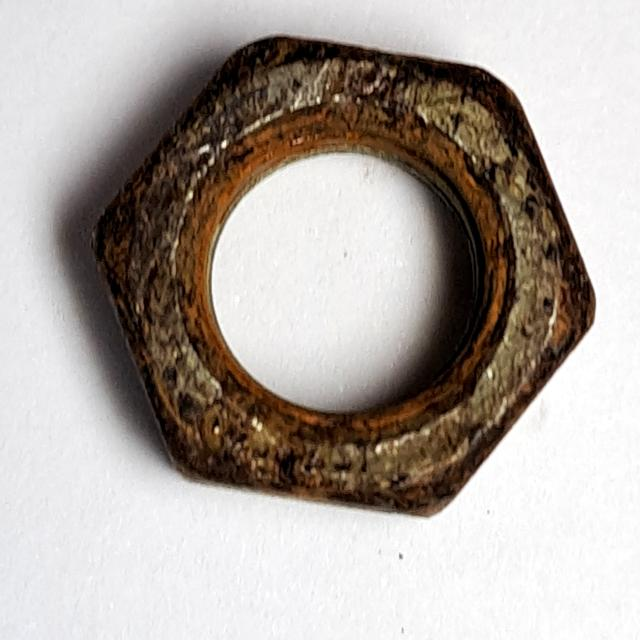Rust: (76, 19, 625, 536)
